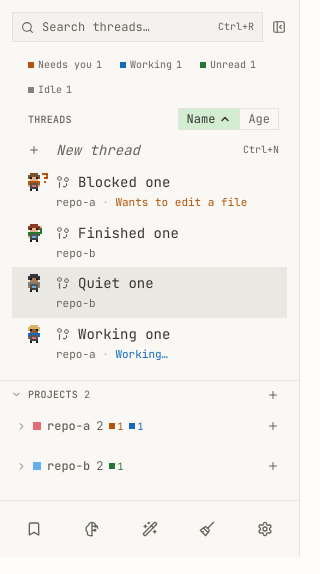
Scenario: Sidebar attention triage › filters the active list by the selected chip
Click the button titled "Needs you: 1".
click(65, 64)  # box [21,54,109,75]
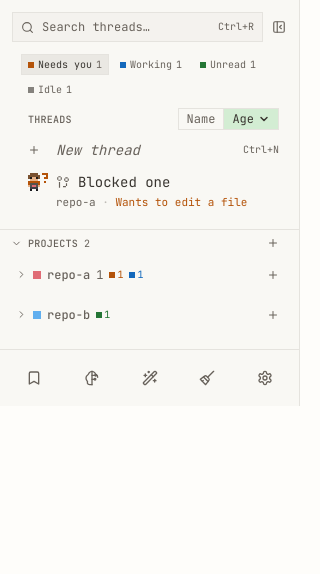
Expected: the text "Blocked one" is shown, [78,173,170,191]
Result: the button "Working one" is gone
Result: the button "Quiet one" is gone
Click the button titled "Unread: 1".
click(228, 64)  # box [193,54,263,75]
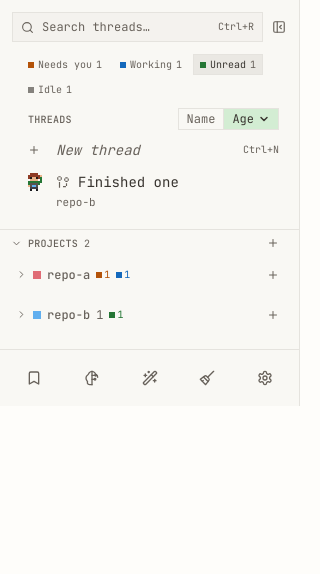
Result: the text "Finished one" is shown at [78,173,179,191]
Result: the button "Blocked one" is gone
Clicking the active chip again shows everything.
Click the button "Unread 1".
click(228, 64)  # box [193,54,263,75]
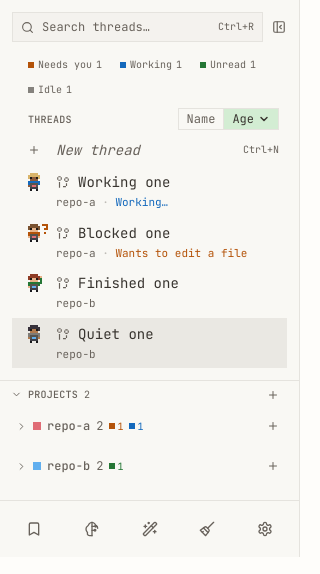
Result: the text "Blocked one" is shown at [78,224,170,242]
Result: the text "Quiet one" is shown at [78,324,154,342]
